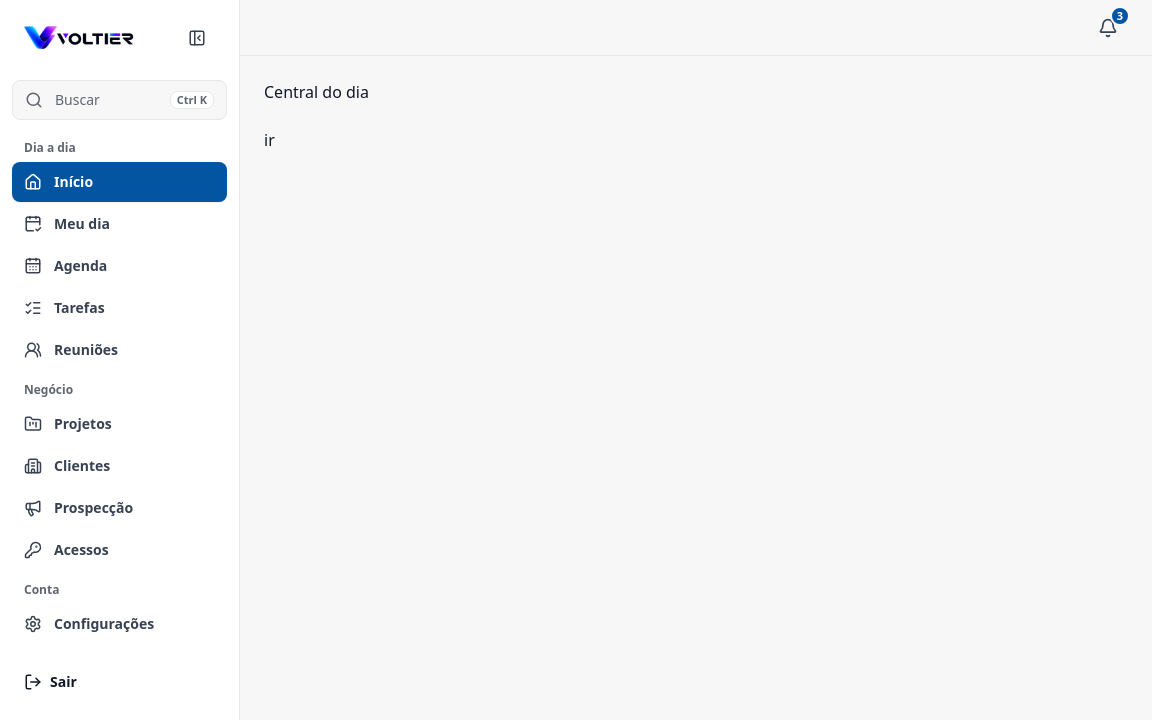
AppShell — acessibilidade › o título do documento acompanha o h1 e muda com a rota
The width and height of the screenshot is (1152, 720).
Click the link "ir".
click(269, 140)  # box [264, 129, 275, 151]
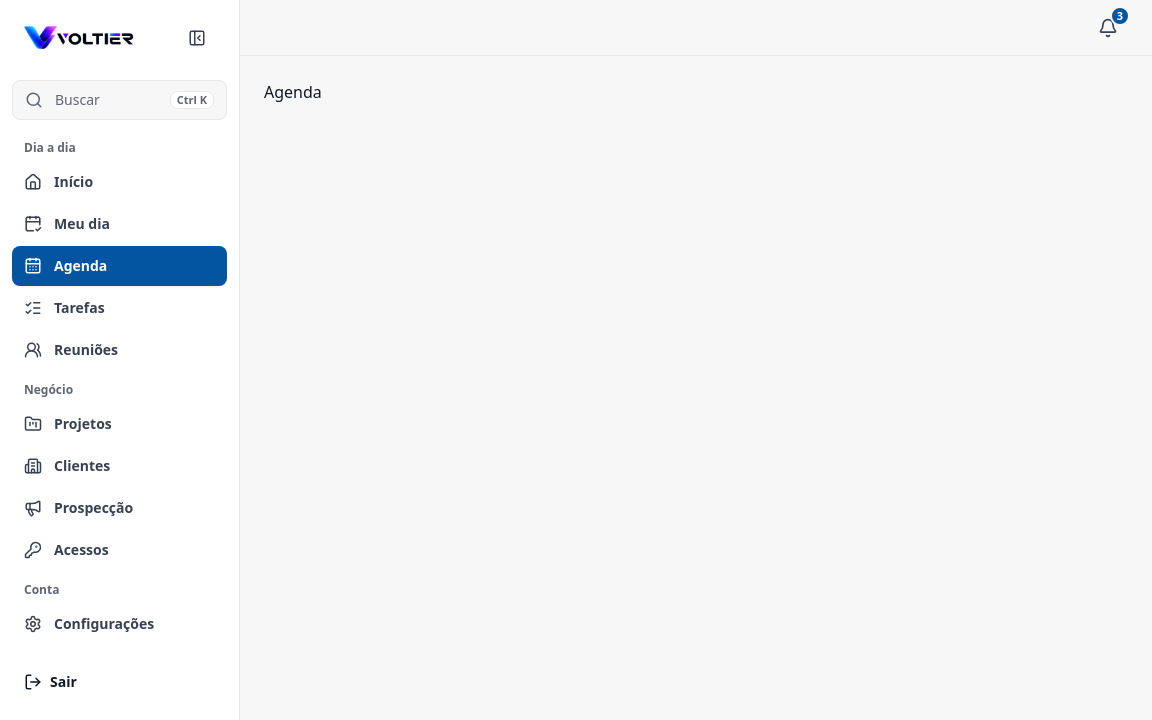
Now the heading "Agenda" is shown, box [264, 81, 322, 103]
